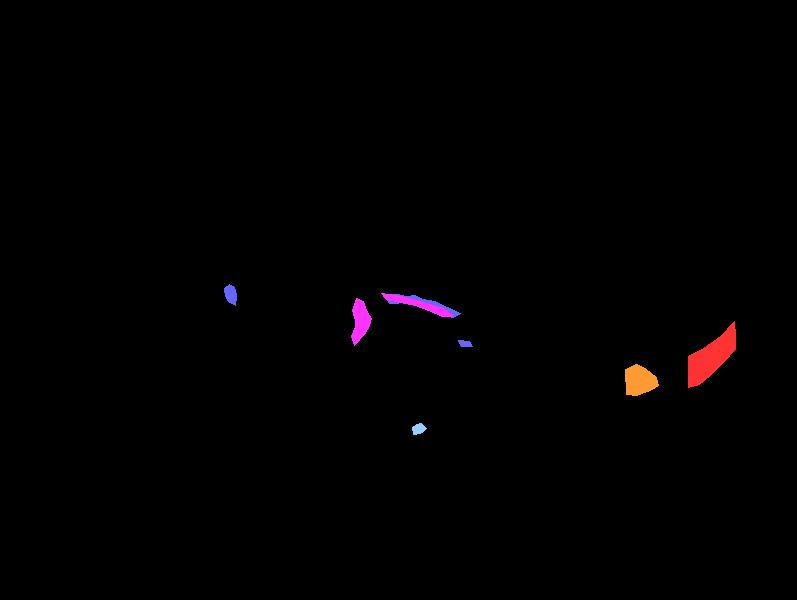Corrosion: (412, 423, 426, 434)
Dent: (381, 293, 453, 316), (351, 298, 371, 345)
Missing part: (688, 321, 735, 387)
Paint chip: (625, 364, 658, 395)
Scratch: (385, 294, 460, 317), (224, 288, 236, 305), (224, 284, 236, 301), (458, 340, 472, 346)
